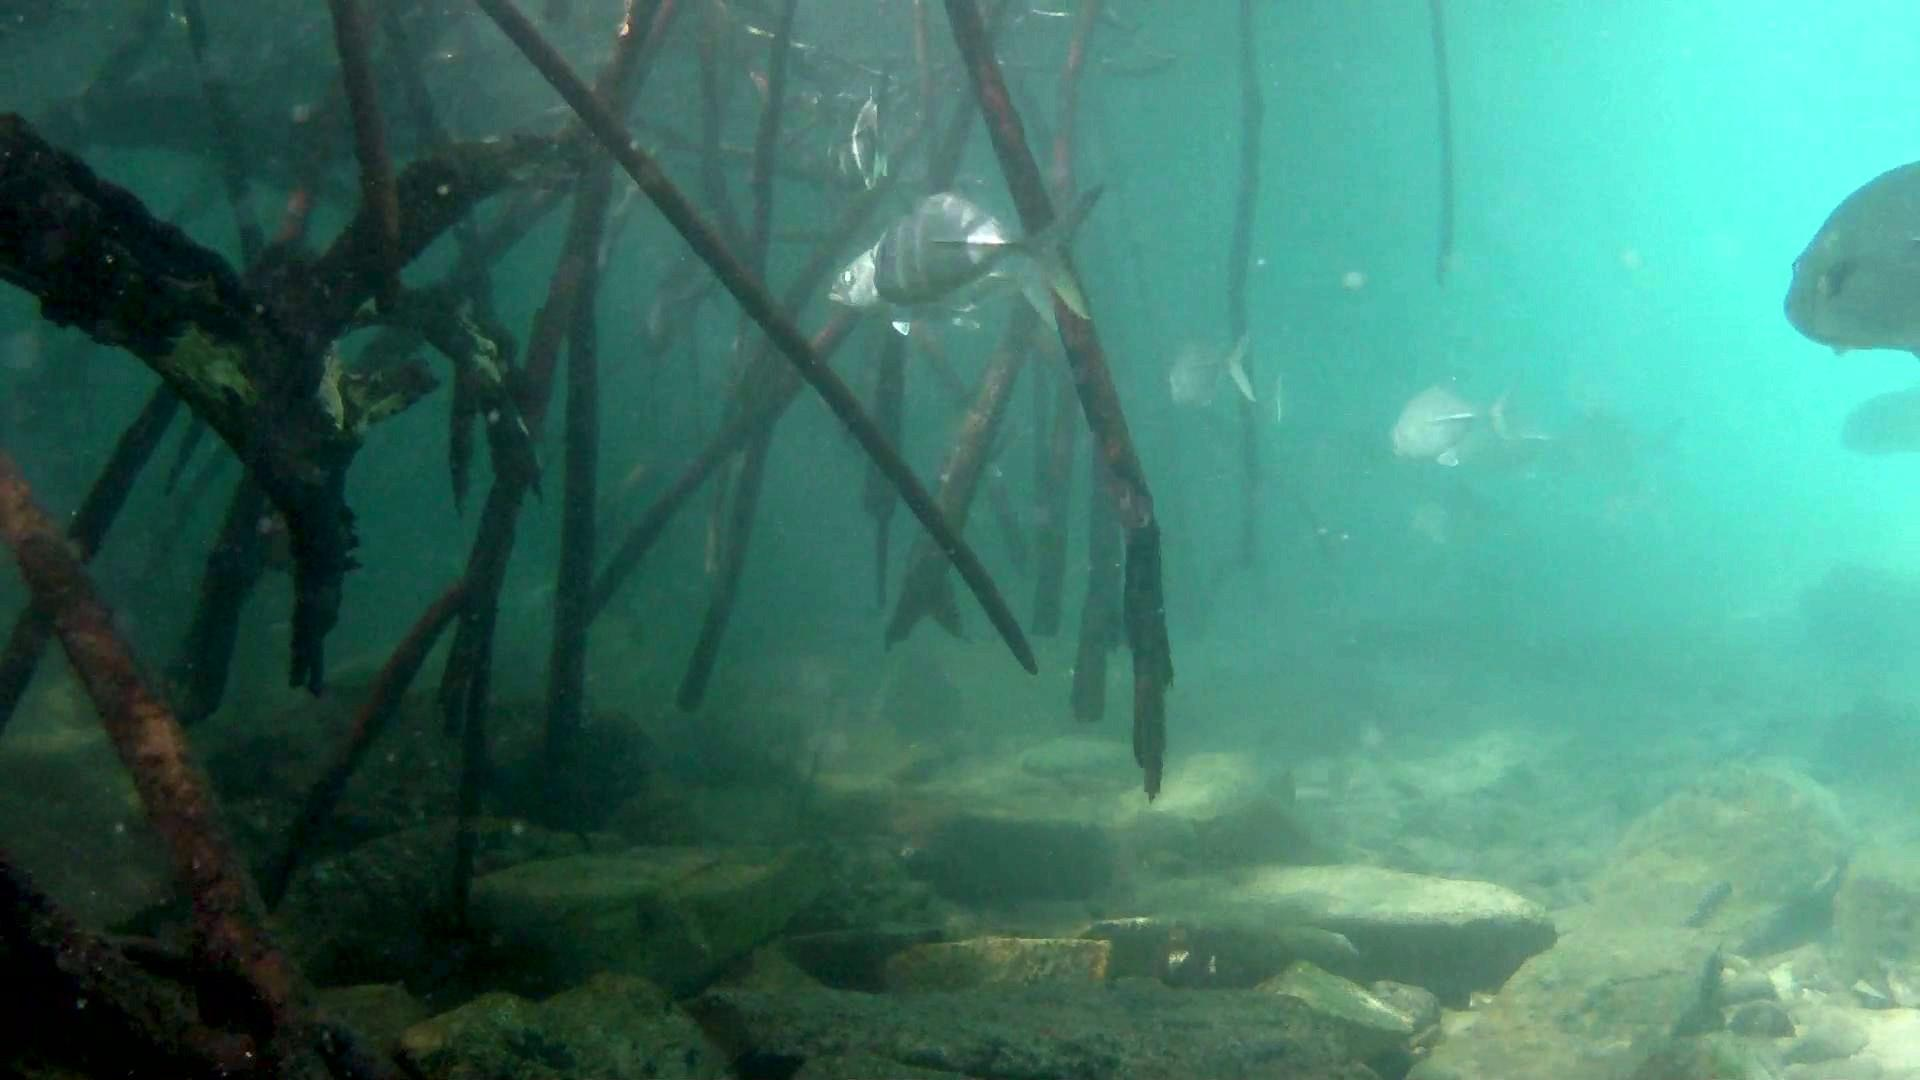caranx: (865, 173, 1112, 319), (1776, 150, 1920, 371)
